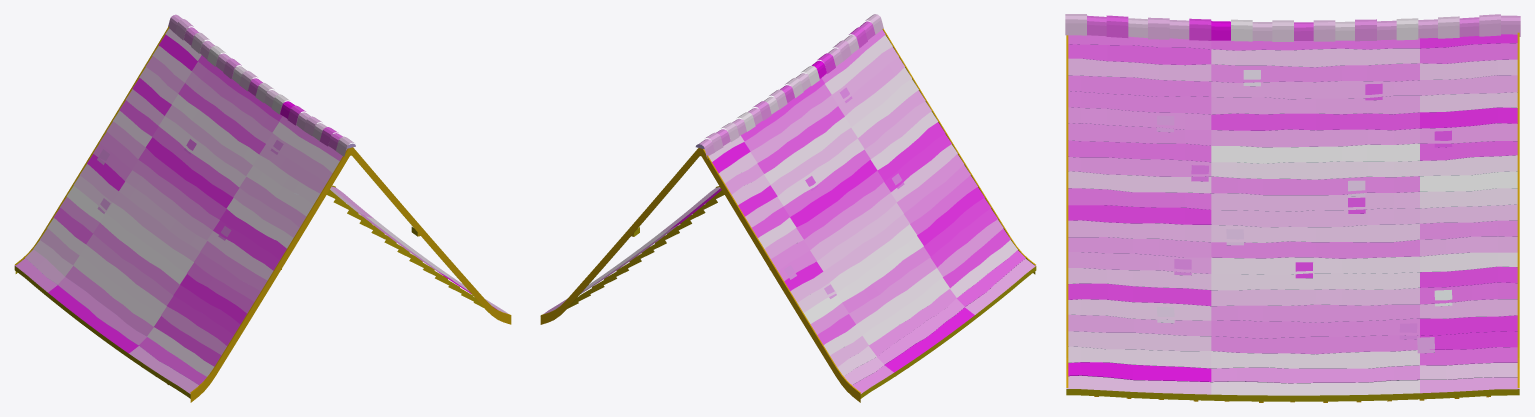
File: roof_p_8x8.glb
3 renders of one model, left to right at view 1: azimuth 30°, elevation 25°; view 2: azimuth 150°, elevation 25°; view 3: azimuth 270°, elevation 25°, orthographic. The views are drawn at different scales.
Visible parts, largest first — view 1: roof_p_8x8; view 2: roof_p_8x8; view 3: roof_p_8x8.
Boxes of the visible parts, x1,y1,x2,y2 form: roof_p_8x8: (14, 14, 511, 402); roof_p_8x8: (540, 14, 1036, 402); roof_p_8x8: (1065, 14, 1520, 402).
Bounding box in the file's own units: 9.16 × 6.11 × 8.74.
